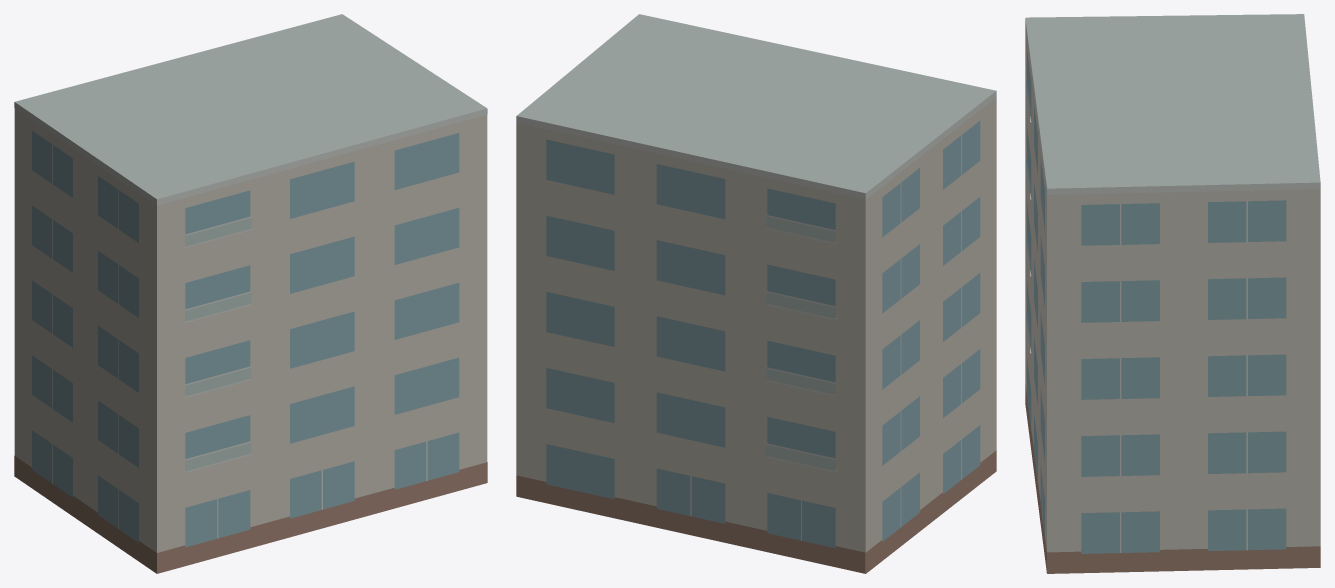
The model's file is survey-upis-32942178.glb.
3 views of the same model, side by side, from view 1: azimuth 30°, elevation 25°; view 2: azimuth 150°, elevation 25°; view 3: azimuth 270°, elevation 25° (orthographic). The views are drawn at different scales.
Parts seen in each view (by area): view 1: survey-upis-32942178.tmp; view 2: survey-upis-32942178.tmp; view 3: survey-upis-32942178.tmp.
Part boxes in pixels (x1=…): survey-upis-32942178.tmp: x1=14, y1=14, x2=487, y2=573; survey-upis-32942178.tmp: x1=516, y1=14, x2=996, y2=573; survey-upis-32942178.tmp: x1=1025, y1=14, x2=1320, y2=573.
Size of the model in its own units: 14.21 by 14.6 by 10.16.
